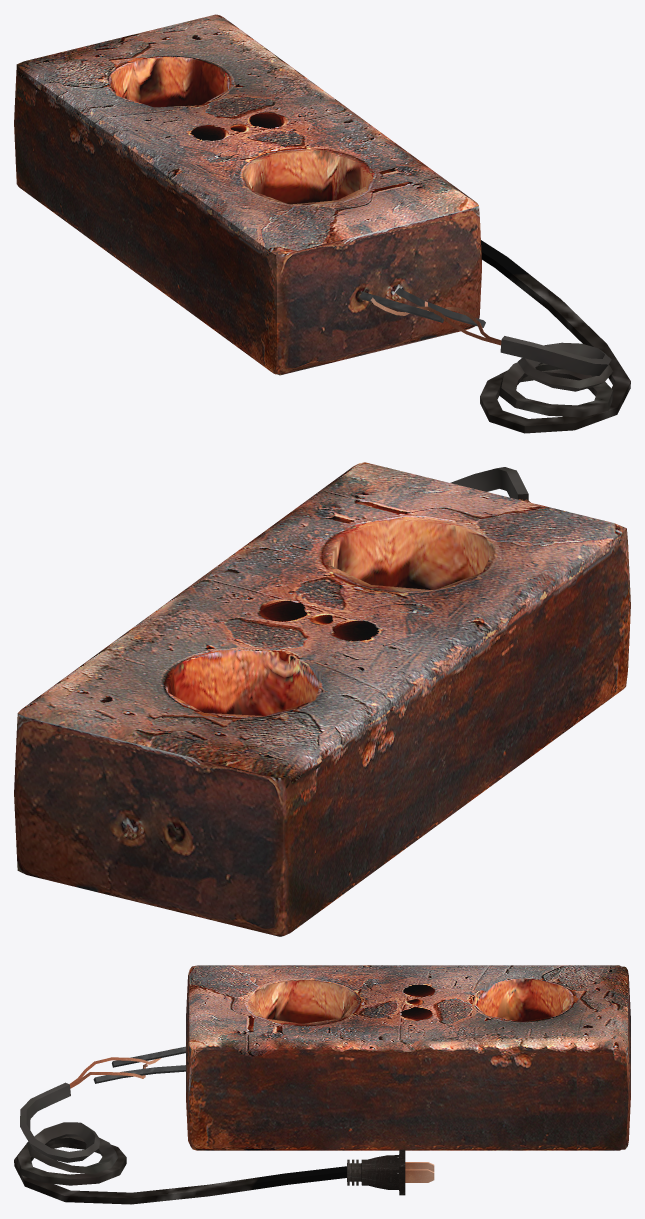
Rendered from cocina2.FBX.
The picture shows the model from 3 angles, top to bottom: view 1: azimuth 30°, elevation 25°; view 2: azimuth 150°, elevation 25°; view 3: azimuth 270°, elevation 25°; orthographic projection. The views are drawn at different scales.
Visible parts, largest first — view 1: Cocina.001, Cocina.006, Cocina.002, Cocina.003; view 2: Cocina.001, Cocina.006; view 3: Cocina.001, Cocina.006, Cocina.007, Cocina.003, Cocina.002, Cocina.008, Cocina.004.
Boxes of the visible parts, box(x1,y1,x2,y2) form: Cocina.001: box(14, 14, 481, 375); Cocina.006: box(480, 240, 630, 433); Cocina.002: box(359, 292, 443, 322); Cocina.003: box(395, 288, 485, 327); Cocina.001: box(14, 462, 630, 936); Cocina.006: box(450, 467, 528, 500); Cocina.001: box(186, 965, 630, 1150); Cocina.006: box(14, 1082, 346, 1204); Cocina.007: box(347, 1149, 405, 1195); Cocina.003: box(93, 1065, 185, 1083); Cocina.002: box(112, 1046, 185, 1067); Cocina.008: box(405, 1169, 434, 1182); Cocina.004: box(69, 1049, 172, 1085).
Bounding box in the file's own units: 202 × 97.53 × 433.
1 material, 1 textured.
